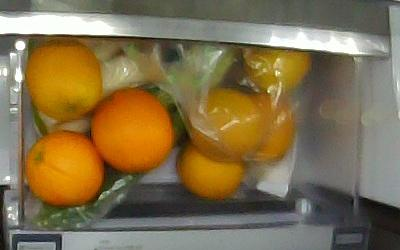orange: (90, 87, 174, 174), (26, 42, 102, 121), (26, 131, 104, 206), (176, 138, 247, 200)
orange_vinyl: (185, 86, 264, 161), (245, 93, 295, 164), (241, 45, 312, 91)
